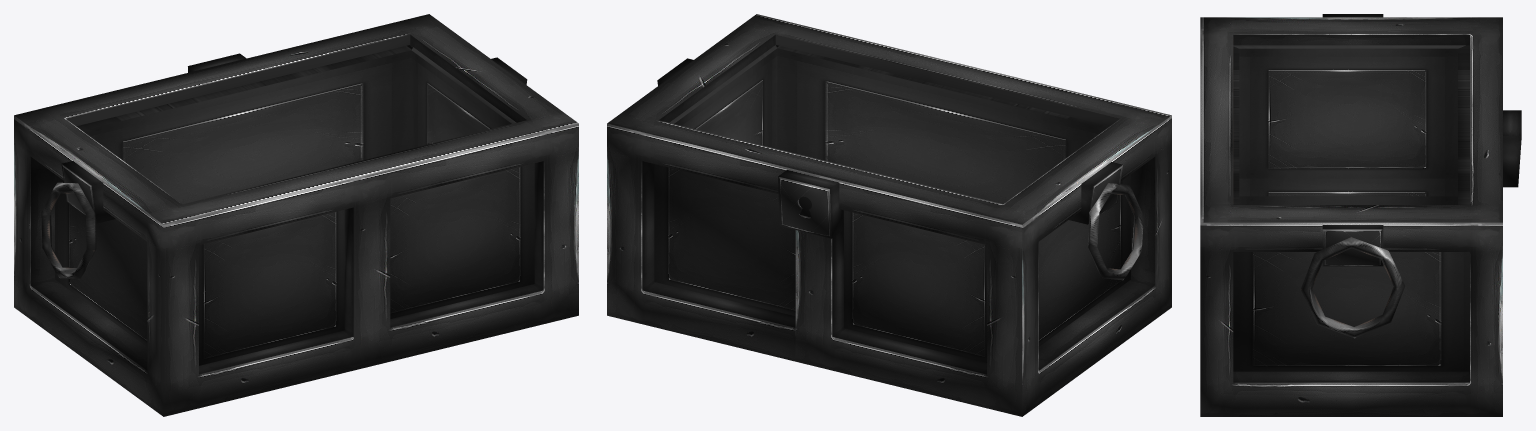
The model's file is metalbottom.fbx.
3 renders of one model, left to right at view 1: azimuth 30°, elevation 25°; view 2: azimuth 150°, elevation 25°; view 3: azimuth 270°, elevation 25°, orthographic.
Visible parts, largest first — view 1: Mesh; view 2: Mesh; view 3: Mesh.
Boxes of the visible parts, <box> form: Mesh: <box>14,14,578,416</box>; Mesh: <box>607,14,1171,416</box>; Mesh: <box>1200,14,1521,416</box>.
Bounding box in the file's own units: 13.54 × 5.23 × 7.84.
